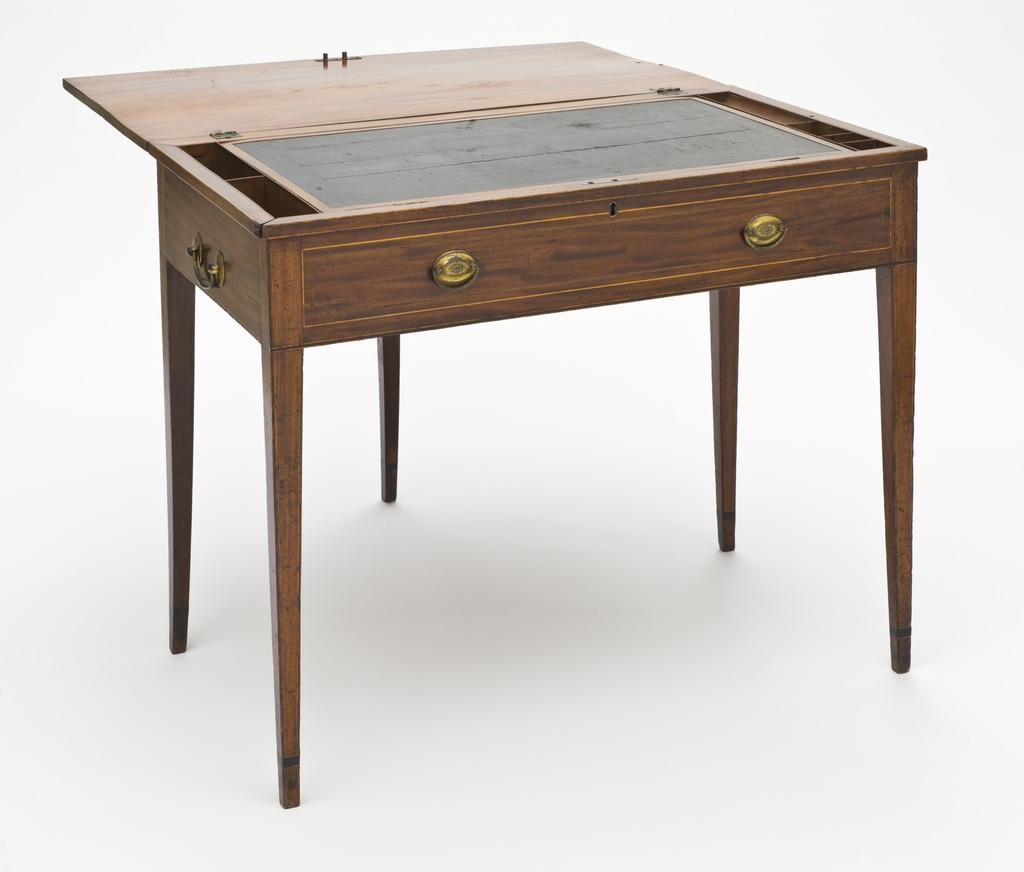Table: (82, 32, 973, 750)
